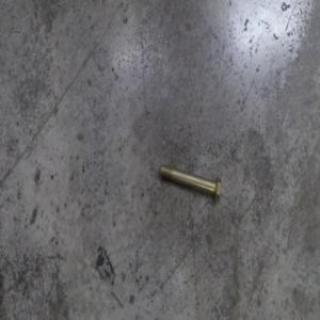Bolttrack_idkeyframe: (158, 161, 222, 202)
